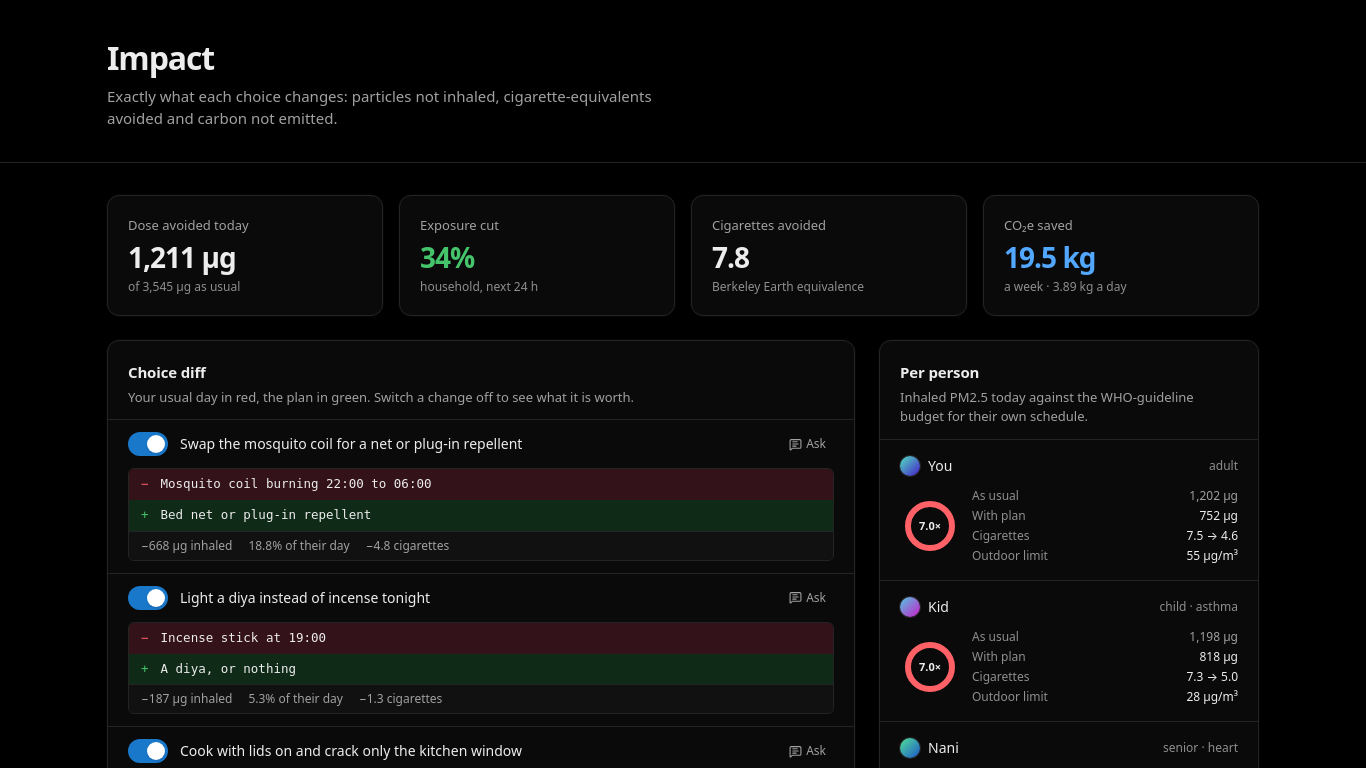
Impact page › recomputes totals when a change is switched off
The image size is (1366, 768).
Click the switch named "Apply: Swap the mosquito coil" at (148, 444), box [128, 432, 168, 456]
(page scrolled)
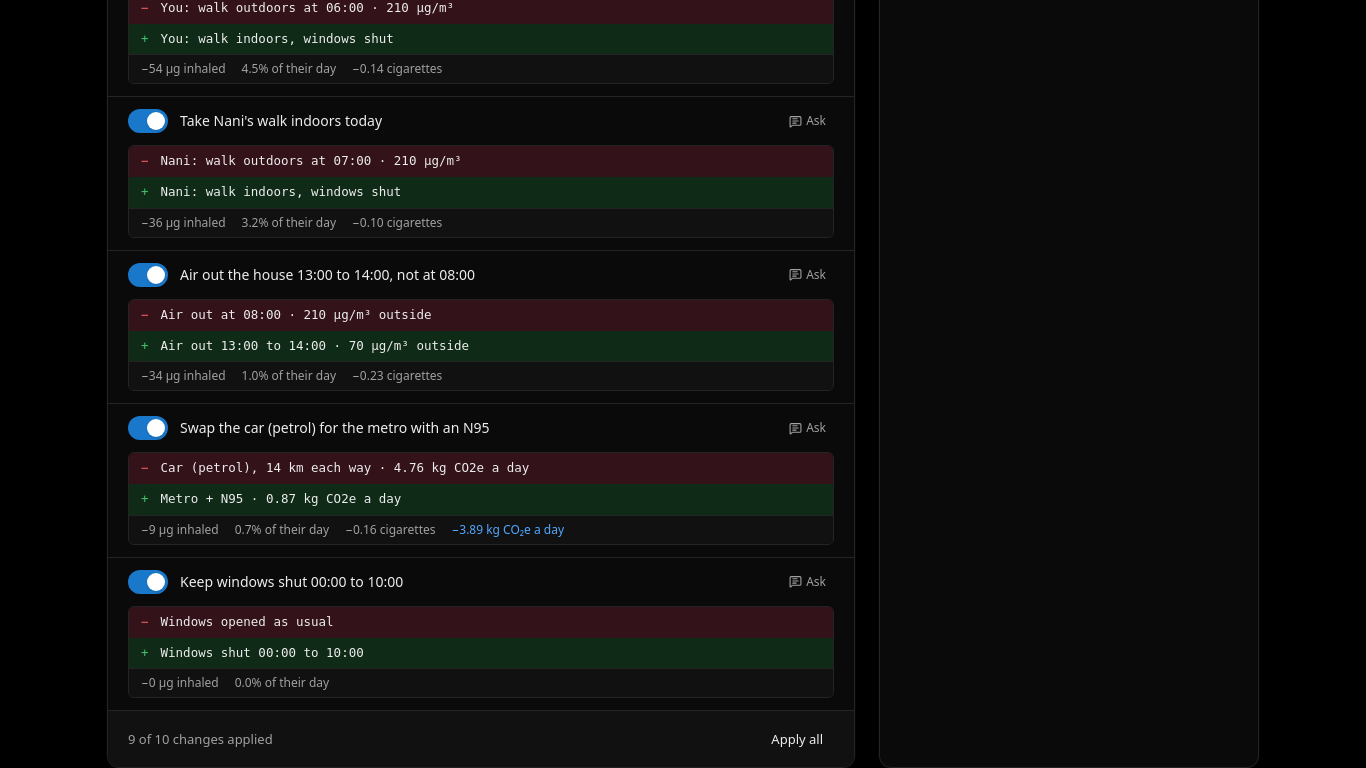
Check: the button "Apply all" is enabled, box [760, 723, 834, 755]
